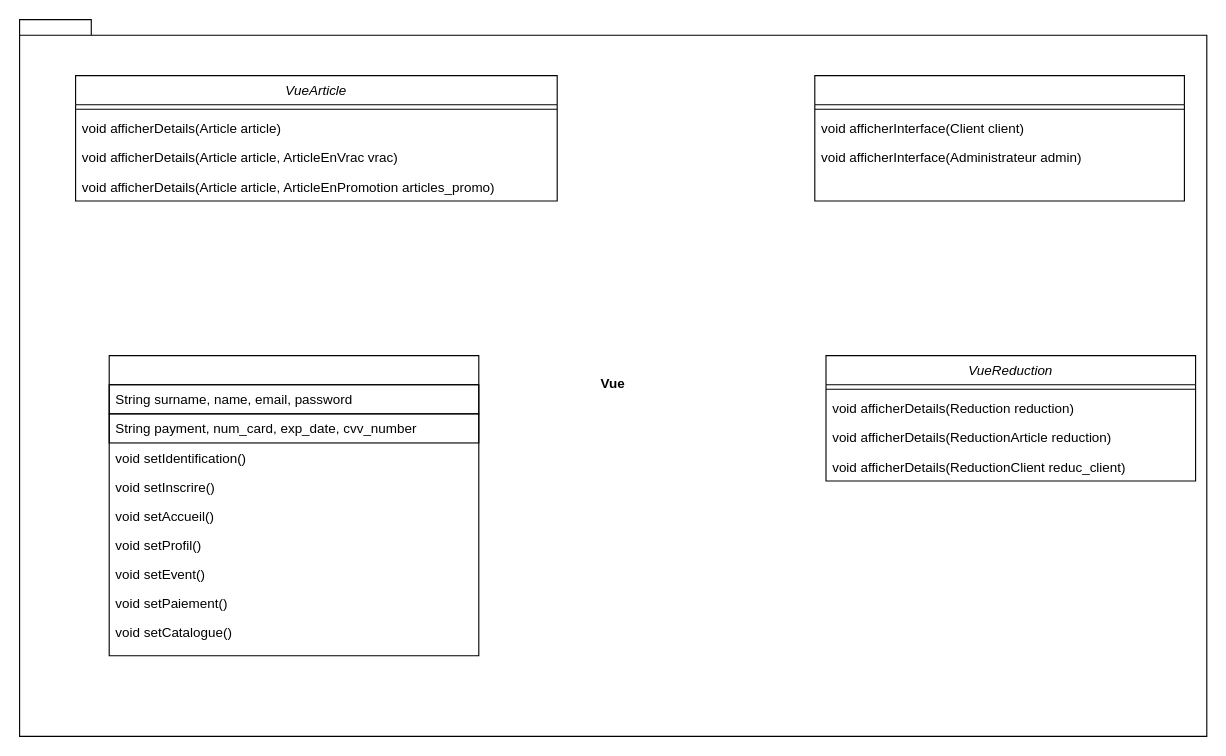
This 1226x756 diagram has some shape labels left out. The box of each missing label's shape, as (x1, y1, x2, y2) in pixels:
Fenetres: (108, 354, 479, 656)
VueInterface: (814, 74, 1184, 201)
